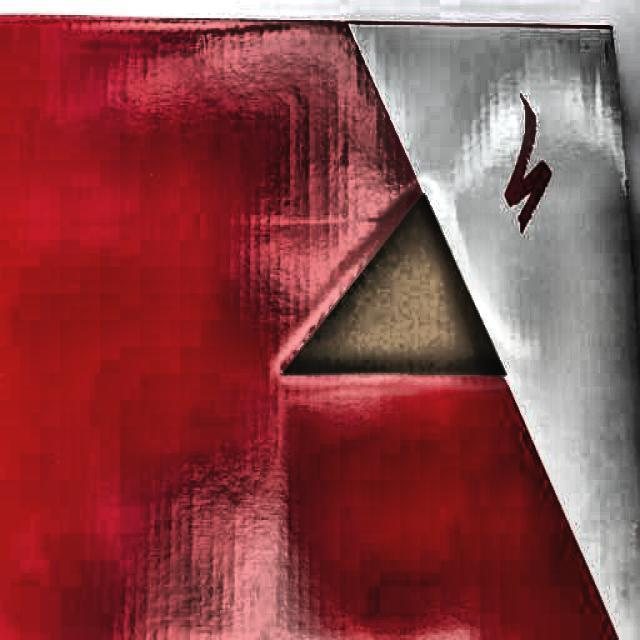cardboard: (0, 11, 639, 638)
